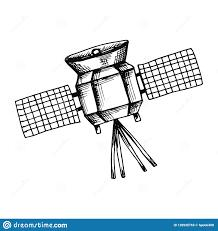antenna: (64, 39, 129, 76), (112, 118, 149, 173), (116, 120, 158, 168), (113, 116, 127, 179), (109, 117, 118, 181)
body: (74, 60, 142, 134)
solar: (15, 84, 81, 139), (136, 47, 204, 100)
